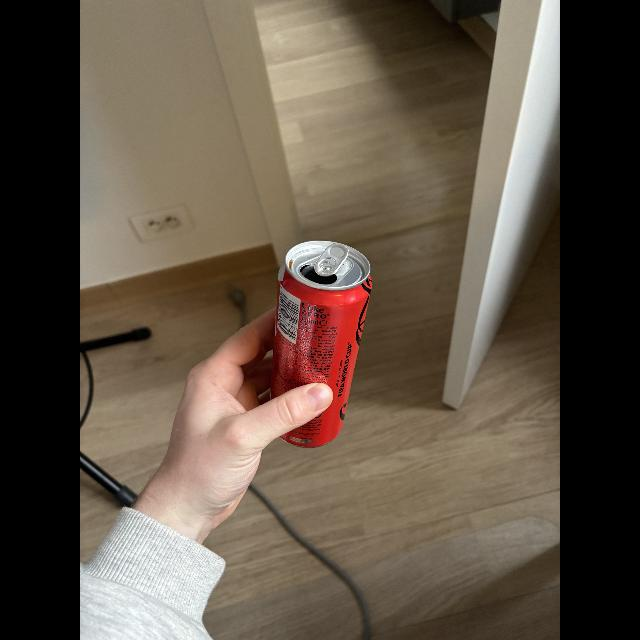Metal: (271, 237, 374, 453)
